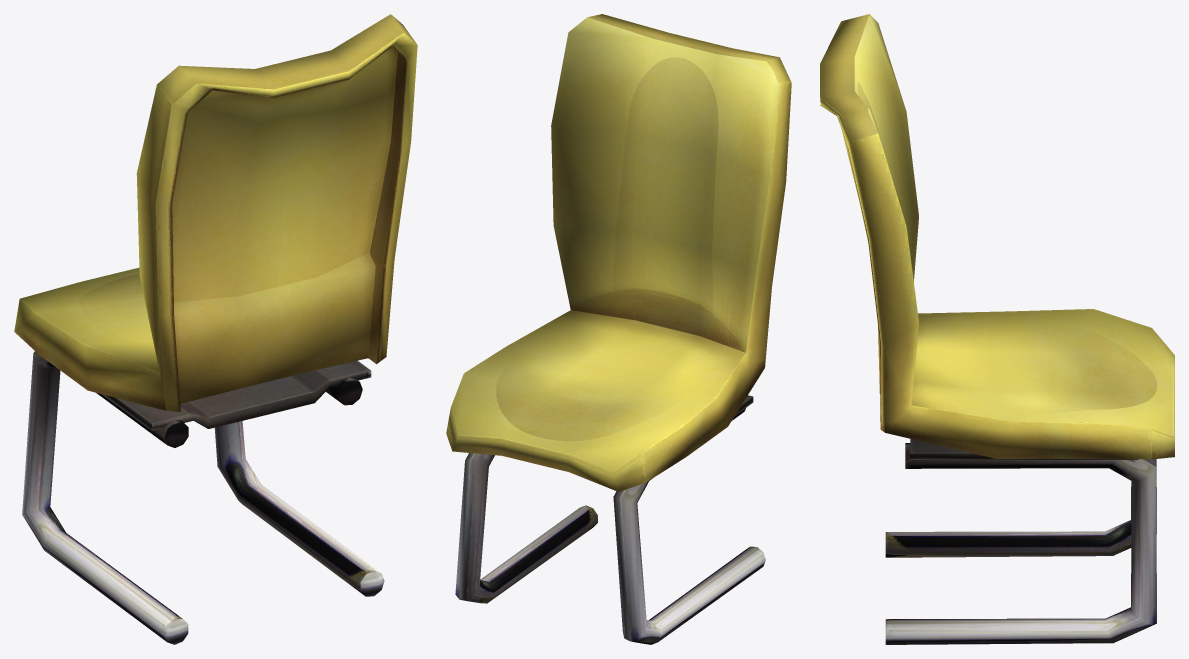
3 renders of one model, left to right at view 1: azimuth 30°, elevation 25°; view 2: azimuth 150°, elevation 25°; view 3: azimuth 270°, elevation 25°, orthographic. The views are drawn at different scales.
Parts seen in each view (by area): view 1: Box02; view 2: Box02; view 3: Box02.
Boxes of the visible parts, x1=… form: Box02: x1=14, y1=14, x2=417, y2=644; Box02: x1=446, y1=14, x2=791, y2=644; Box02: x1=820, y1=14, x2=1174, y2=644.
Size of the model in its own units: 30.26 by 66.39 by 39.57.
1 material, 1 textured.
